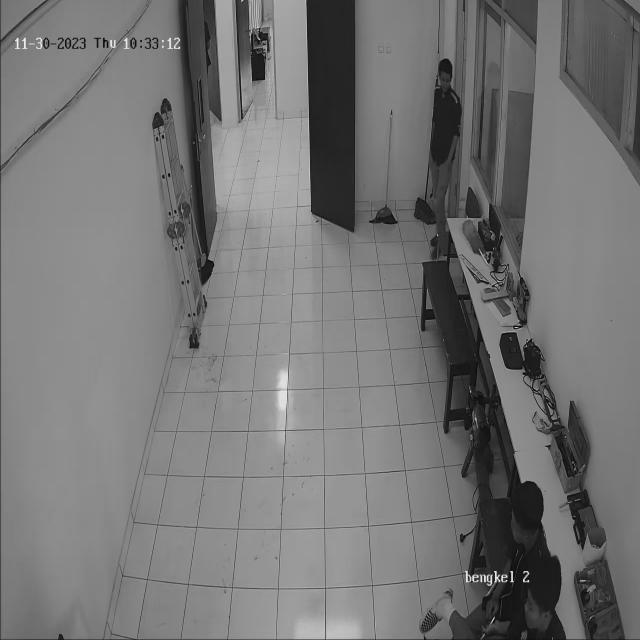person: (432, 52, 454, 269)
